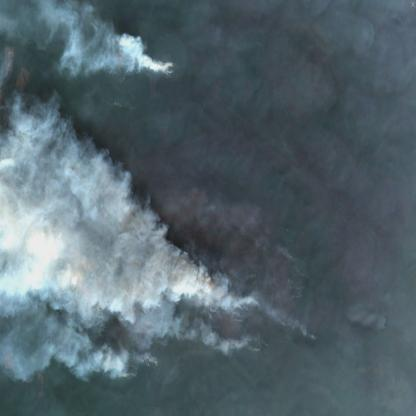fire: (205, 279, 271, 357), (158, 54, 178, 80)
